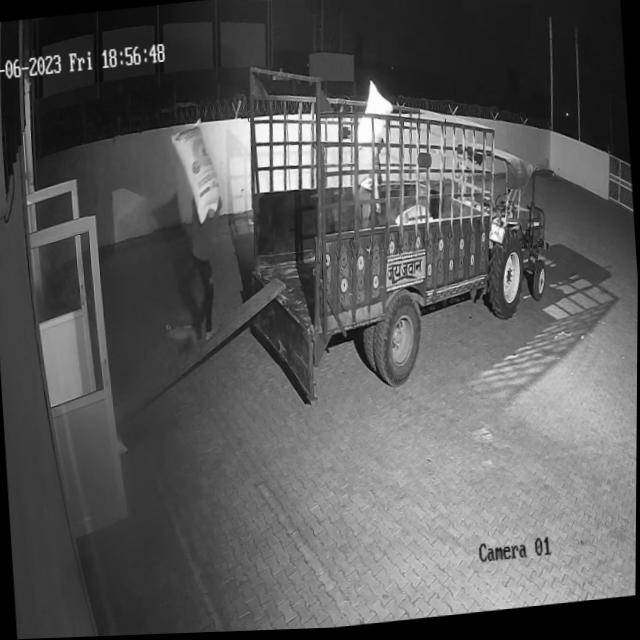sack: (170, 119, 221, 229)
